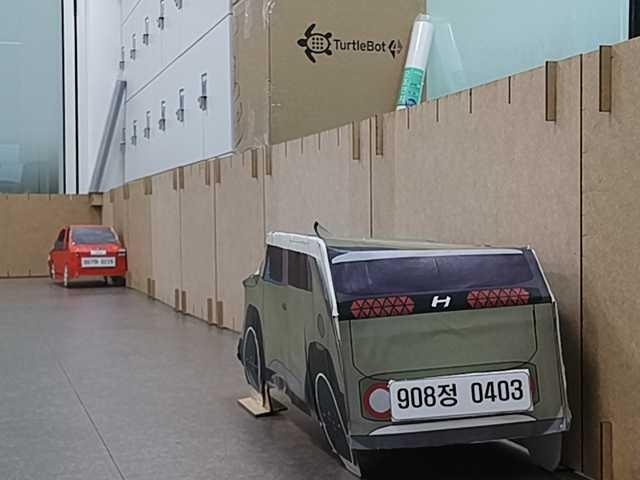car: (239, 230, 573, 479), (45, 221, 128, 288)
id: (383, 366, 535, 425), (83, 251, 117, 270)
